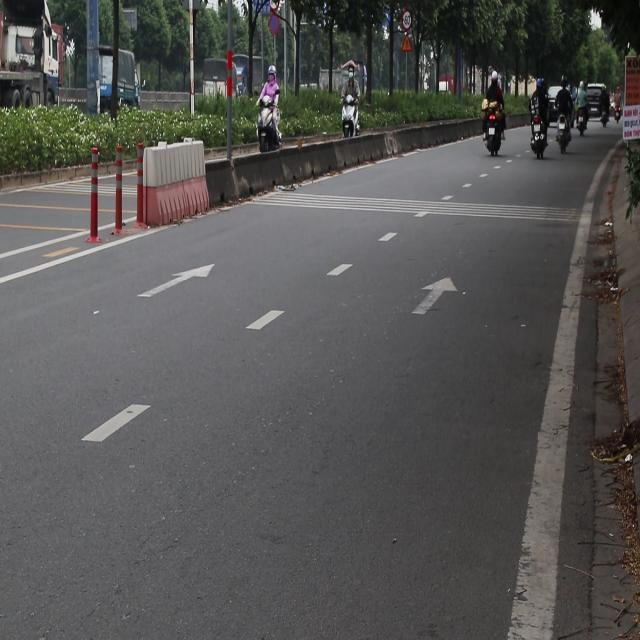car: (576, 73, 609, 127), (544, 79, 570, 120)
motorbike: (251, 94, 287, 168), (336, 94, 364, 148), (482, 106, 507, 157), (530, 115, 548, 162), (557, 114, 569, 165), (598, 94, 612, 130), (578, 106, 590, 139)
truck: (0, 2, 143, 118), (85, 43, 139, 119), (202, 55, 236, 120)
